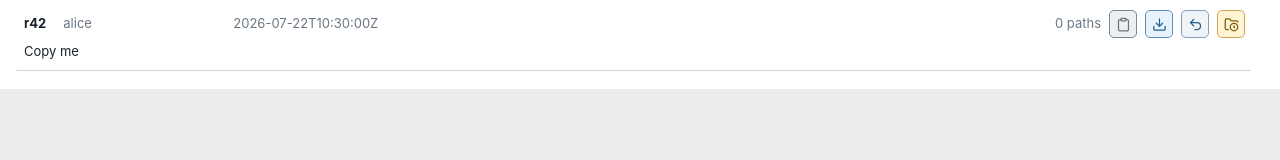
Test: SvnLogRevisionList › copies the selected log revision number to the clipboard
The image size is (1280, 160).
What coordinates should you click on to do the following:
click the button named "复制版本号 r42"
I would click on:
 (1123, 24)
Its box is [1109, 10, 1137, 38].
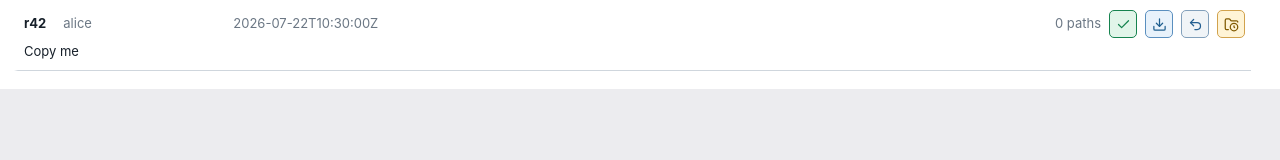
Now the icon with class "lucide-check" is shown, box [1116, 16, 1130, 32]
